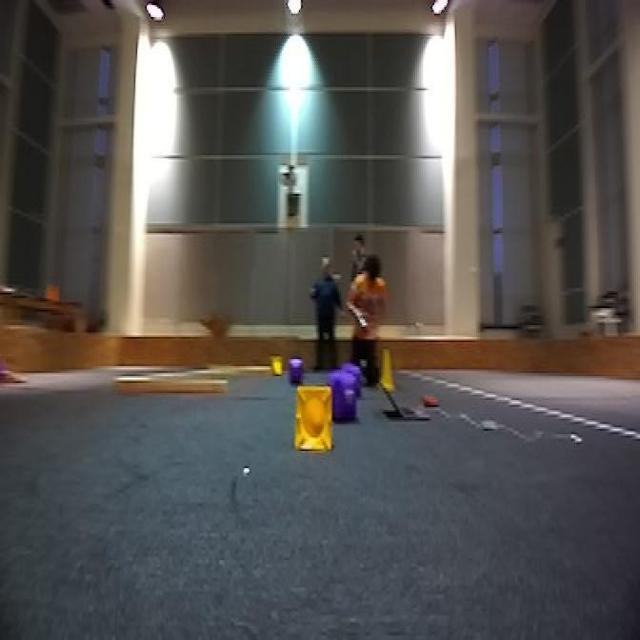frc_cone: (292, 381, 340, 460), (378, 349, 397, 388), (270, 351, 286, 378)
frc_cube: (333, 372, 359, 418), (286, 356, 304, 378), (348, 368, 363, 392)
